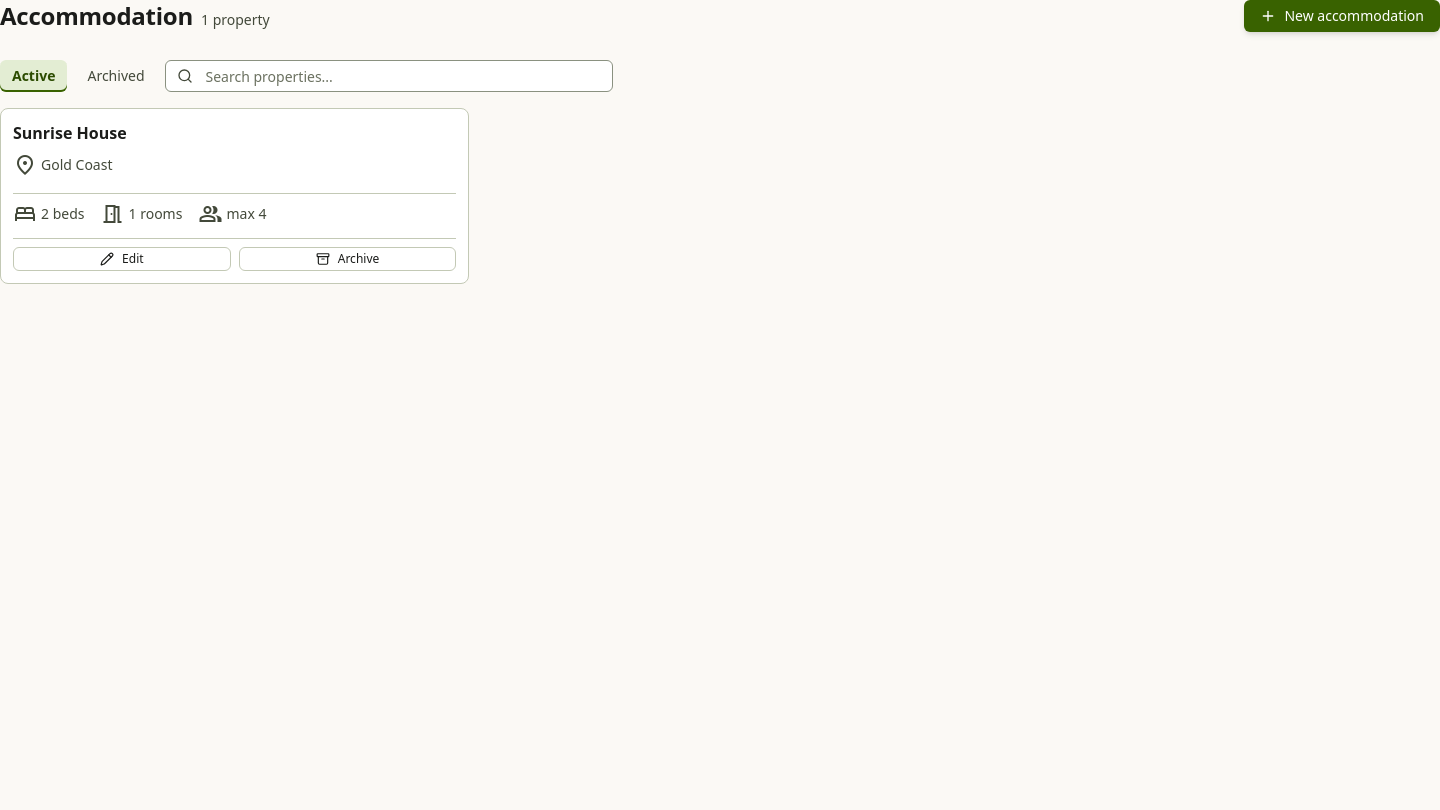
Test case: AccommodationPage — a refused archive or restore › closes the confirm and shows the server message
Click the button "Archive" at (348,259), box [239,247,456,271]
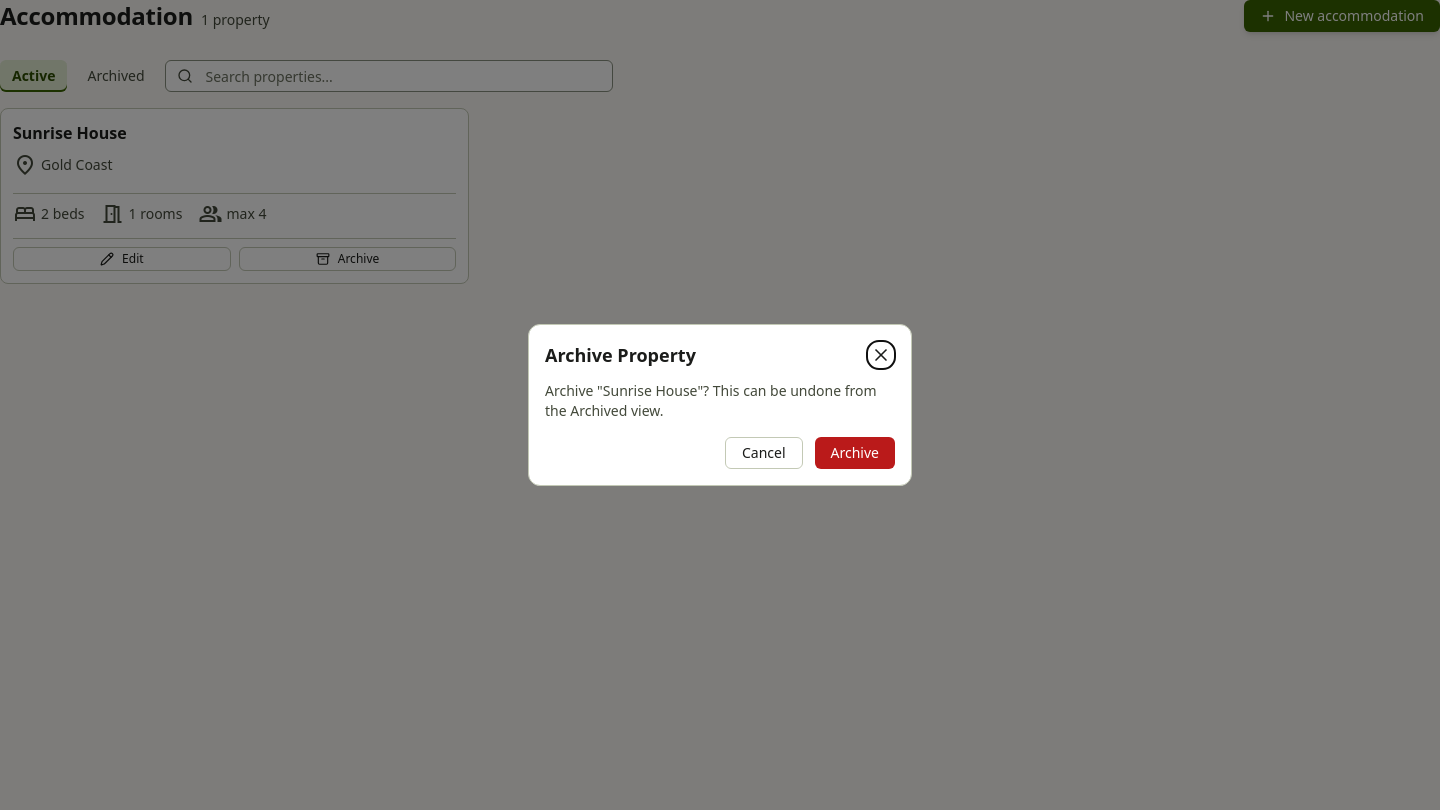
Click the button "Archive" at (855,453), box [814,437,895,469]
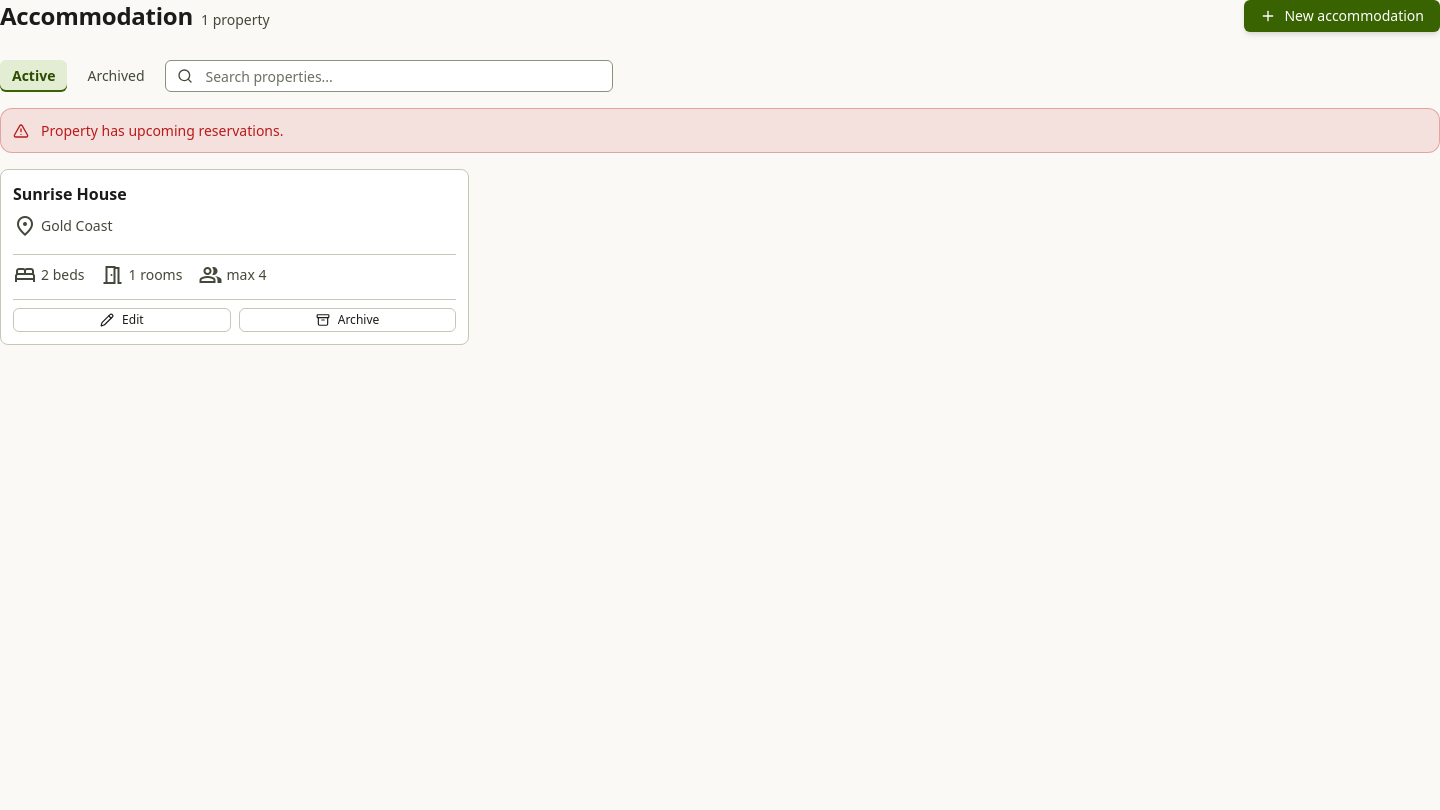
expect the text "Property has upcoming reservations." is shown: met, box [41,121,284,140]
expect the dialog is gone: met
